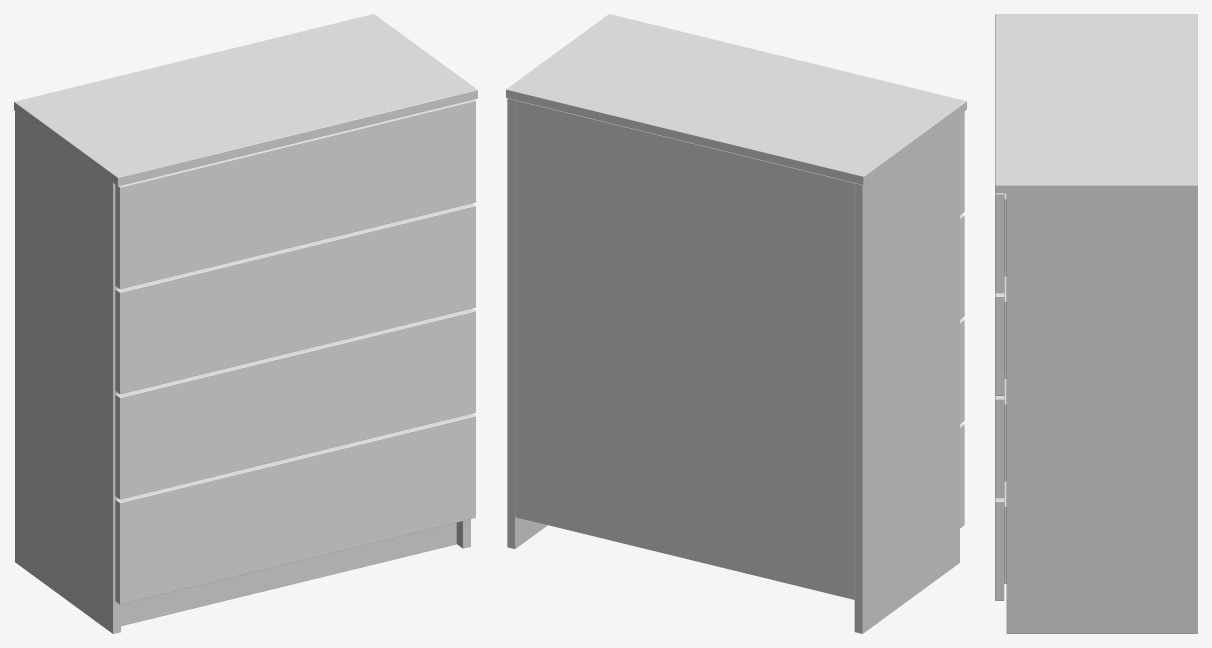
The model's file is dresser-10-white-four-drawer.glb.
3 views of the same model, side by side, from view 1: azimuth 30°, elevation 25°; view 2: azimuth 150°, elevation 25°; view 3: azimuth 270°, elevation 25° (orthographic). The views are drawn at different scales.
Parts seen in each view (by area): view 1: Panel_Side_Left_Tile_ccc, Panel_Top_Tile_ccc, Drawer_01_Front_Core_Tile_ccc, Drawer_04_Front_Core_Tile_ccc, Drawer_03_Front_Core_Tile_ccc, Drawer_02_Front_Core_Tile_ccc, Plinth_Front_Tile_ccc, Panel_Top_Tile_ccp, Panel_Side_Left_Tile_ccp, Drawer_03_Front_Core_Tile_cpc, Drawer_02_Front_Core_Tile_cpc, Drawer_01_Front_Core_Tile_cpc (+2 smaller); view 2: Panel_Back_Tile_ccc, Panel_Side_Left_Tile_ccc, Panel_Top_Tile_ccc, Panel_Side_Left_Tile_ccm, Panel_Side_Right_Tile_ccm, Panel_Top_Tile_ccm, Panel_Top_Tile_mcc; view 3: Panel_Side_Right_Tile_ccc, Panel_Top_Tile_ccc, Panel_Top_Tile_pcc, Drawer_02_Front_Core_Tile_pcc, Drawer_04_Front_Core_Tile_pcc, Drawer_01_Front_Core_Tile_pcc, Drawer_03_Front_Core_Tile_pcc, Panel_Side_Right_Tile_ccp, Panel_Side_Right_Tile_ccm.
Boxes of the visible parts, bbox=[...] form: Panel_Side_Left_Tile_ccc: bbox=[15, 111, 112, 633]; Panel_Top_Tile_ccc: bbox=[15, 14, 477, 177]; Drawer_01_Front_Core_Tile_ccc: bbox=[120, 416, 475, 604]; Drawer_04_Front_Core_Tile_ccc: bbox=[120, 101, 475, 288]; Drawer_03_Front_Core_Tile_ccc: bbox=[120, 206, 475, 393]; Drawer_02_Front_Core_Tile_ccc: bbox=[120, 311, 475, 499]; Plinth_Front_Tile_ccc: bbox=[121, 522, 456, 625]; Panel_Top_Tile_ccp: bbox=[118, 90, 477, 185]; Panel_Side_Left_Tile_ccp: bbox=[112, 183, 120, 633]; Drawer_03_Front_Core_Tile_cpc: bbox=[116, 203, 475, 292]; Drawer_02_Front_Core_Tile_cpc: bbox=[116, 308, 475, 397]; Drawer_01_Front_Core_Tile_cpc: bbox=[116, 413, 475, 502]; Panel_Back_Tile_ccc: bbox=[515, 101, 854, 599]; Panel_Side_Left_Tile_ccc: bbox=[863, 115, 959, 633]; Panel_Top_Tile_ccc: bbox=[507, 14, 965, 176]; Panel_Side_Left_Tile_ccm: bbox=[854, 183, 862, 633]; Panel_Side_Right_Tile_ccm: bbox=[507, 98, 515, 548]; Panel_Top_Tile_ccm: bbox=[506, 89, 863, 184]; Panel_Top_Tile_mcc: bbox=[864, 101, 966, 184]; Panel_Side_Right_Tile_ccc: bbox=[1007, 193, 1197, 633]; Panel_Top_Tile_ccc: bbox=[995, 14, 1197, 184]; Panel_Top_Tile_pcc: bbox=[995, 185, 1197, 193]; Drawer_02_Front_Core_Tile_pcc: bbox=[995, 399, 1004, 498]; Drawer_04_Front_Core_Tile_pcc: bbox=[995, 194, 1004, 293]; Drawer_01_Front_Core_Tile_pcc: bbox=[995, 502, 1004, 600]; Drawer_03_Front_Core_Tile_pcc: bbox=[995, 297, 1004, 395]; Panel_Side_Right_Tile_ccp: bbox=[1006, 193, 1006, 633]; Panel_Side_Right_Tile_ccm: bbox=[1197, 193, 1197, 633].
Bounding box in the file's own units: 0.7 × 0.856 × 0.35.
Materials: 190 (189 with a texture image).
